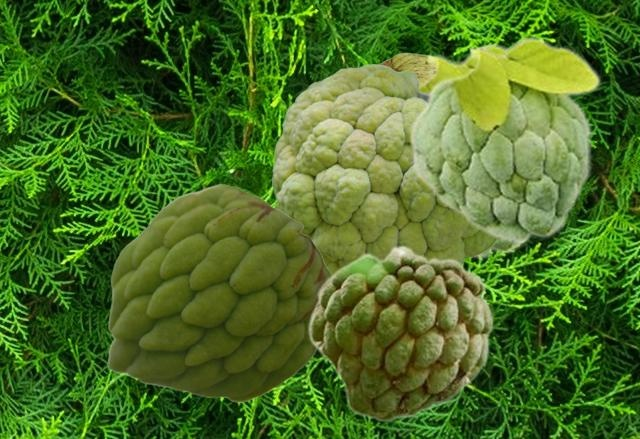atis: (107, 184, 332, 401), (272, 64, 498, 271), (407, 35, 601, 243), (306, 244, 493, 421), (420, 42, 527, 259), (379, 52, 428, 81)
